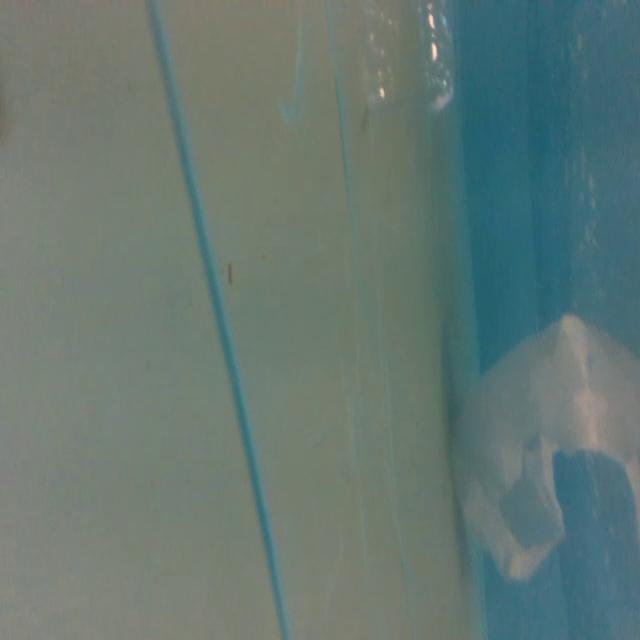plastic bags: (455, 317, 640, 594)
